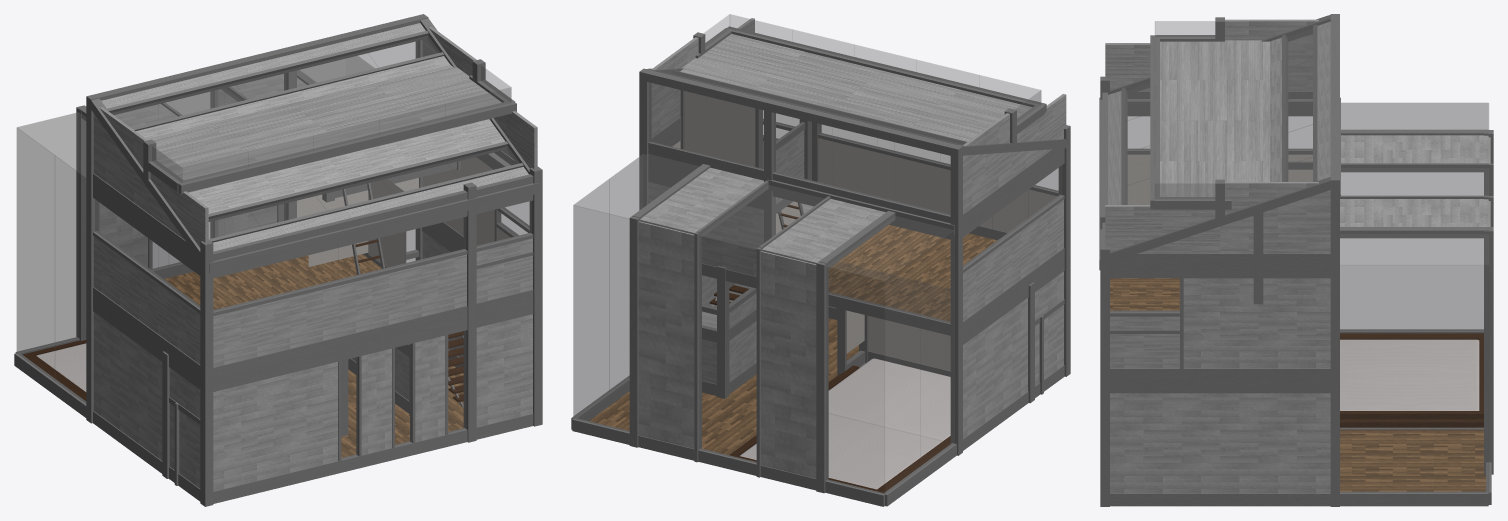
3 renders of one model, left to right at view 1: azimuth 30°, elevation 25°; view 2: azimuth 150°, elevation 25°; view 3: azimuth 270°, elevation 25°, orthographic. The views are drawn at different scales.
Parts seen in each view (by area): view 1: 2f, 1f, pillar, stairwell, 3f, roof_floor, roof_top_1, roof, 1f_grass, roof_top_2, roof_top_3, roof_hasira_1 (+12 smaller); view 2: stairwell, 2f, pillar, 3f, 1f, roof_floor, bed_cushion (2), bed_cushion (1), roof, Quad, roof_hasira_2, 1f_wall_25 (1) (+1 smaller); view 3: stairwell, 1f, 2f, pillar, 3f, roof_floor, bed_cushion (1), Quad, roof_top_2, roof, roof_top_1, roof_top_grass_2 (+8 smaller).
Part boxes in pixels (x1=…): 2f: x1=93, y1=152, x2=538, y2=391; 1f: x1=14, y1=232, x2=533, y2=503; pillar: x1=76, y1=14, x2=542, y2=506; stairwell: x1=16, y1=56, x2=414, y2=403; 3f: x1=93, y1=26, x2=537, y2=278; roof_floor: x1=146, y1=64, x2=501, y2=180; roof_top_1: x1=136, y1=56, x2=505, y2=213; roof: x1=152, y1=65, x2=511, y2=182; 1f_grass: x1=341, y1=331, x2=465, y2=458; roof_top_2: x1=101, y1=23, x2=425, y2=108; roof_top_3: x1=213, y1=167, x2=528, y2=251; roof_hasira_1: x1=107, y1=30, x2=428, y2=114; stairwell: x1=573, y1=154, x2=954, y2=494; 2f: x1=648, y1=110, x2=1064, y2=344; pillar: x1=629, y1=26, x2=1070, y2=493; 3f: x1=648, y1=18, x2=1066, y2=239; 1f: x1=571, y1=271, x2=1064, y2=506; roof_floor: x1=680, y1=34, x2=1031, y2=141; bed_cushion (2): x1=828, y1=358, x2=950, y2=441; bed_cushion (1): x1=740, y1=413, x2=942, y2=489; roof: x1=704, y1=14, x2=1041, y2=121; Quad: x1=589, y1=318, x2=858, y2=454; roof_hasira_2: x1=672, y1=70, x2=967, y2=144; 1f_wall_25 (1): x1=846, y1=311, x2=864, y2=353; stairwell: x1=1340, y1=102, x2=1490, y2=492; 1f: x1=1110, y1=329, x2=1491, y2=506; 2f: x1=1099, y1=97, x2=1340, y2=393; pillar: x1=1100, y1=14, x2=1493, y2=506; 3f: x1=1102, y1=19, x2=1330, y2=278; roof_floor: x1=1160, y1=40, x2=1269, y2=196; bed_cushion (1): x1=1340, y1=339, x2=1479, y2=410; Quad: x1=1340, y1=429, x2=1485, y2=491; roof_top_2: x1=1317, y1=21, x2=1330, y2=180; roof: x1=1154, y1=21, x2=1214, y2=198; roof_top_1: x1=1270, y1=37, x2=1281, y2=181; roof_top_grass_2: x1=1126, y1=59, x2=1312, y2=152.
Bounding box in the file's own units: 10.25 × 9.45 × 10.28.
9 materials, 8 textured.
